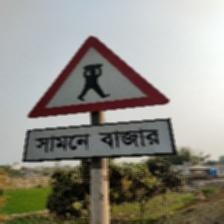Market-in-front: (24, 35, 175, 164)
